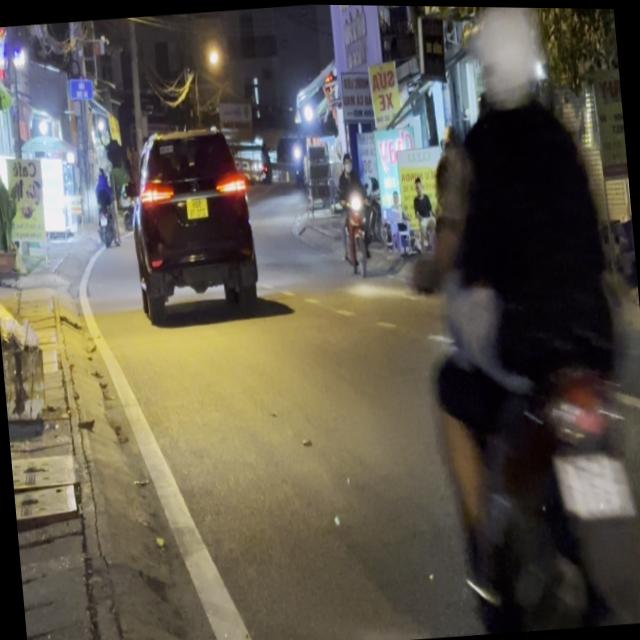helmet: (470, 5, 550, 123)
licenseplate: (390, 5, 640, 632)
nohelmet: (556, 447, 635, 517)
